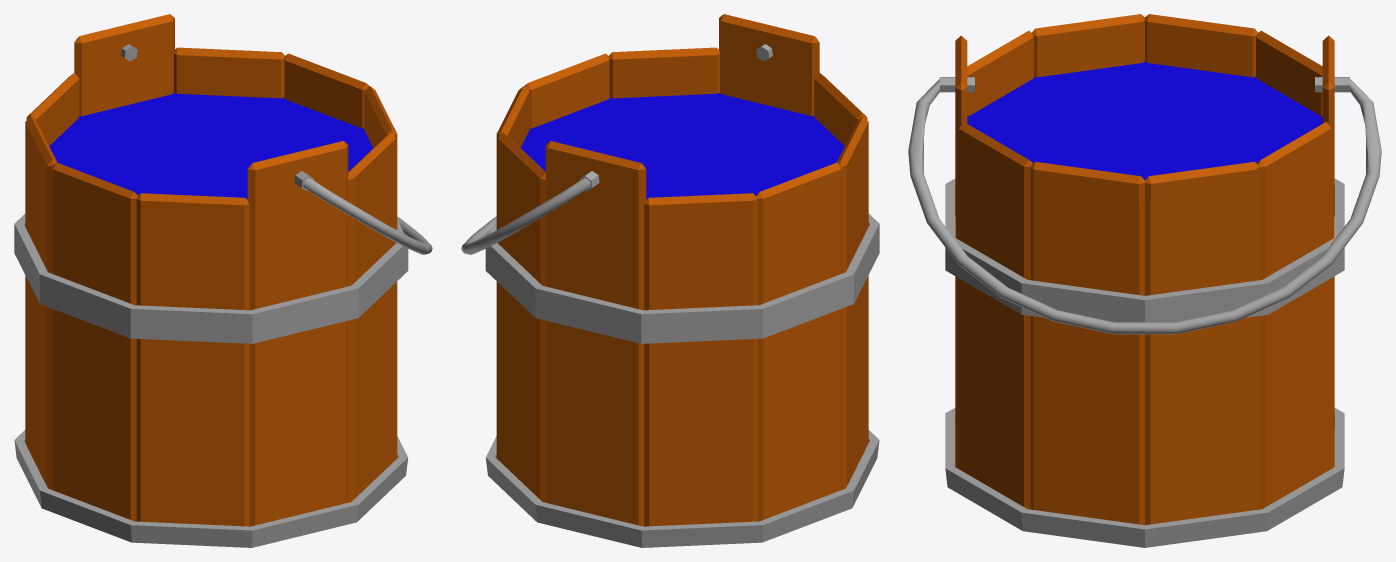
File: WaterBucket.fbx
3 views of the same model, side by side, from view 1: azimuth 30°, elevation 25°; view 2: azimuth 150°, elevation 25°; view 3: azimuth 270°, elevation 25° (orthographic). The views are drawn at different scales.
Visible parts, largest first — view 1: WaterBucket; view 2: WaterBucket; view 3: WaterBucket.
Boxes of the visible parts, box(x1,y1,x2,y2) form: WaterBucket: box(14, 14, 432, 547); WaterBucket: box(461, 14, 879, 547); WaterBucket: box(908, 14, 1381, 547).
Bounding box in the file's own units: 215 × 223 × 237.
